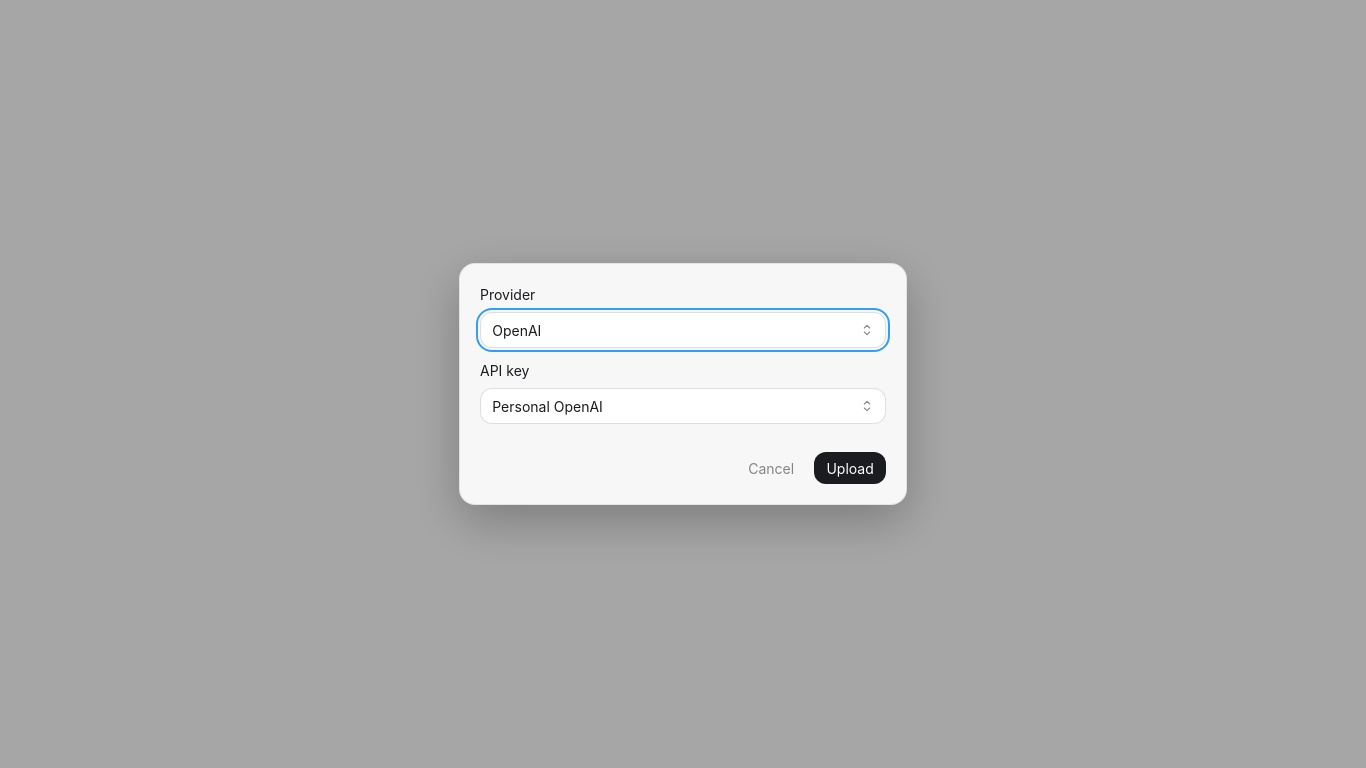
Test: Folder store dialog › restores editable fields after asynchronous preflight error
The width and height of the screenshot is (1366, 768).
Click the button "Upload". click: (850, 468)
box: [814,452,886,484]
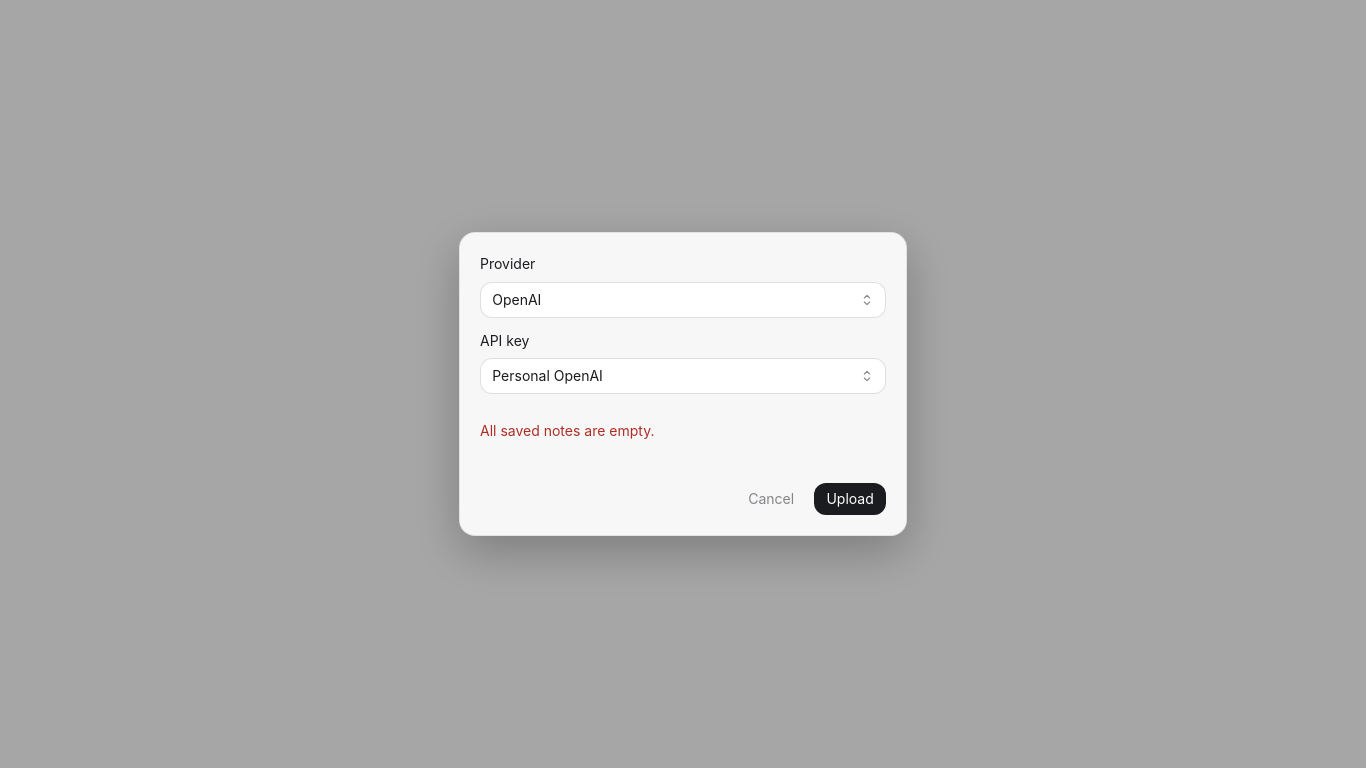
Expected: the dropdown labelled "Provider" is enabled, [480,282,886,318]
Expected: the message reads "All saved notes are empty.", [480,422,654,439]
